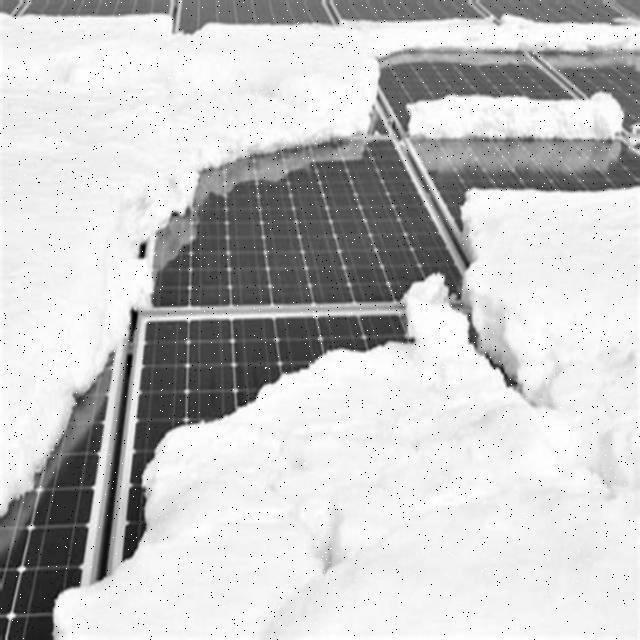snow covered: (182, 4, 502, 553)
